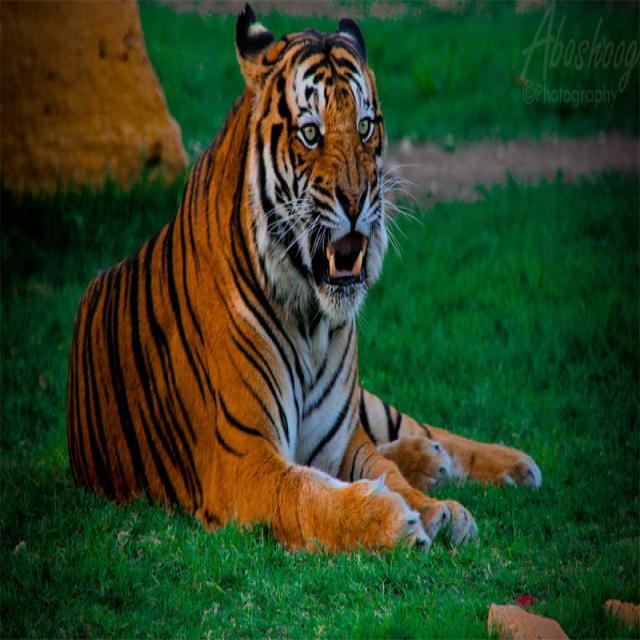Tiger: (64, 5, 494, 578)
